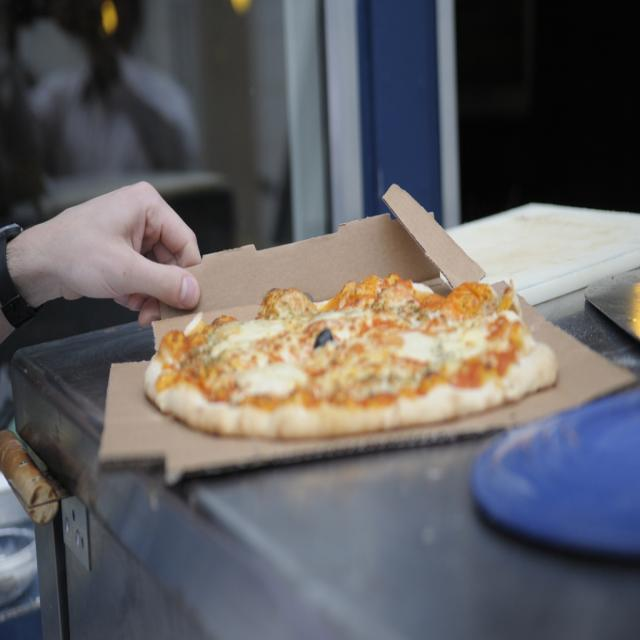Pizza: (145, 274, 559, 422)
